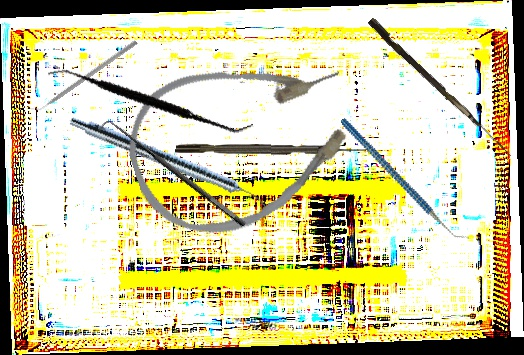Cannula: (111, 29, 376, 256)
Chopper: (340, 91, 470, 268), (28, 34, 138, 117)
Handpiece: (66, 113, 275, 212)
Hook Surgical: (365, 17, 518, 157), (95, 112, 249, 238), (175, 142, 367, 157)
Spatula Surgical: (46, 23, 255, 175)
